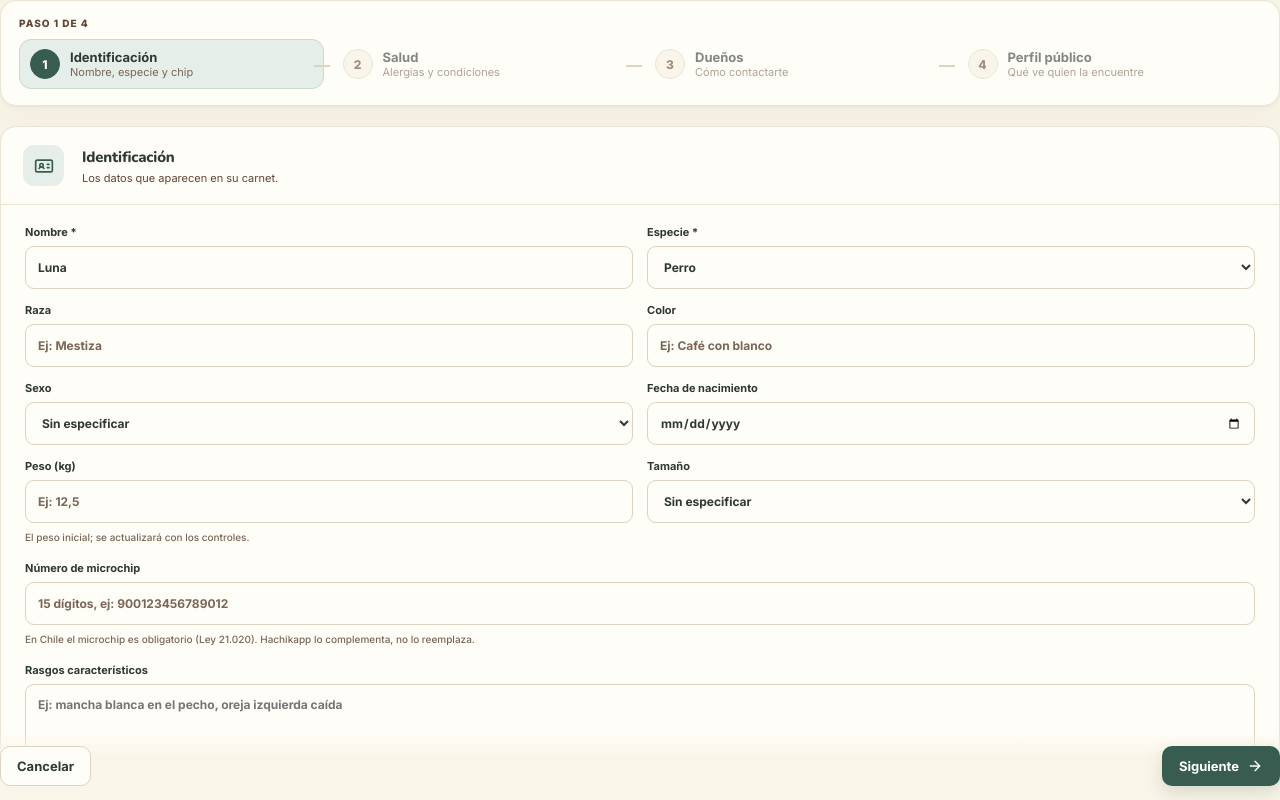
Test: PetForm wizard › never submits from a step before Perfil público, even on a fast double click
Click the button "Siguiente": (1221,766) [1162,746,1279,786]
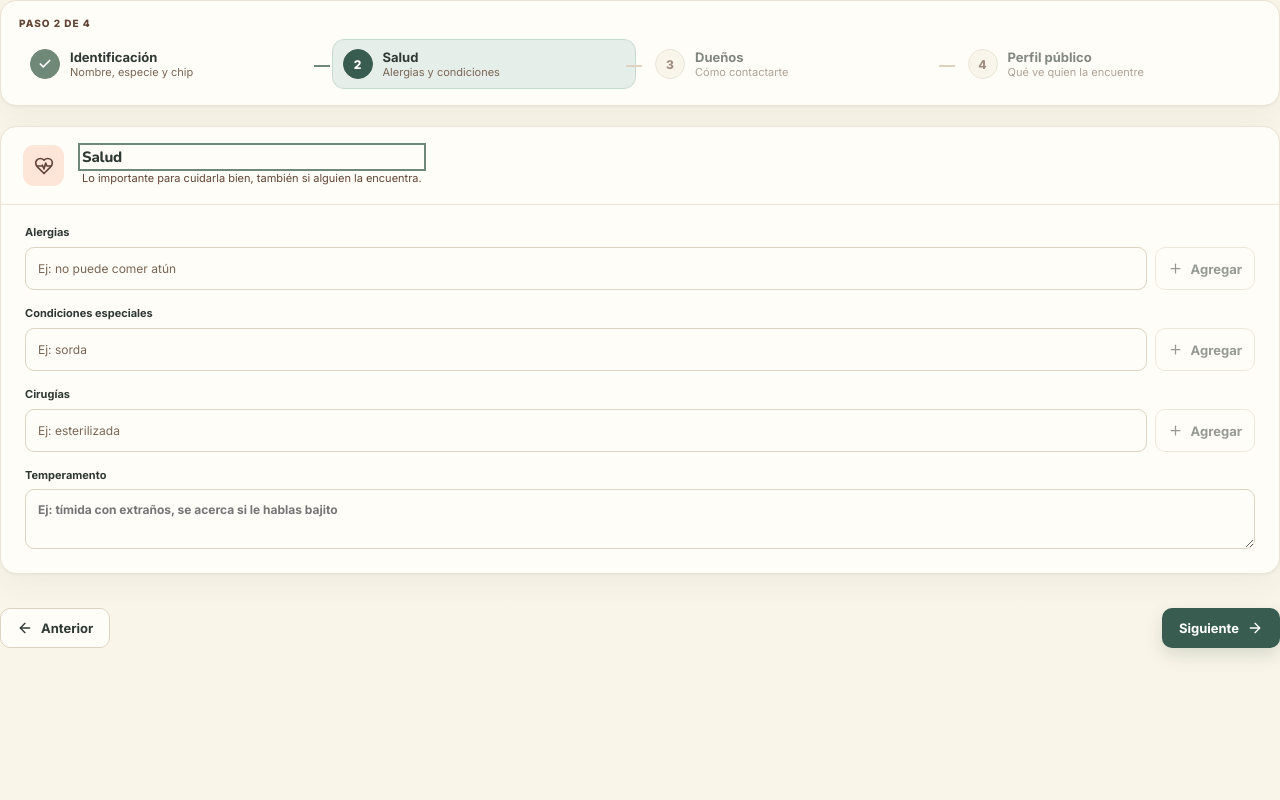
Click the button "Siguiente": (1221,628) [1162,608,1279,648]
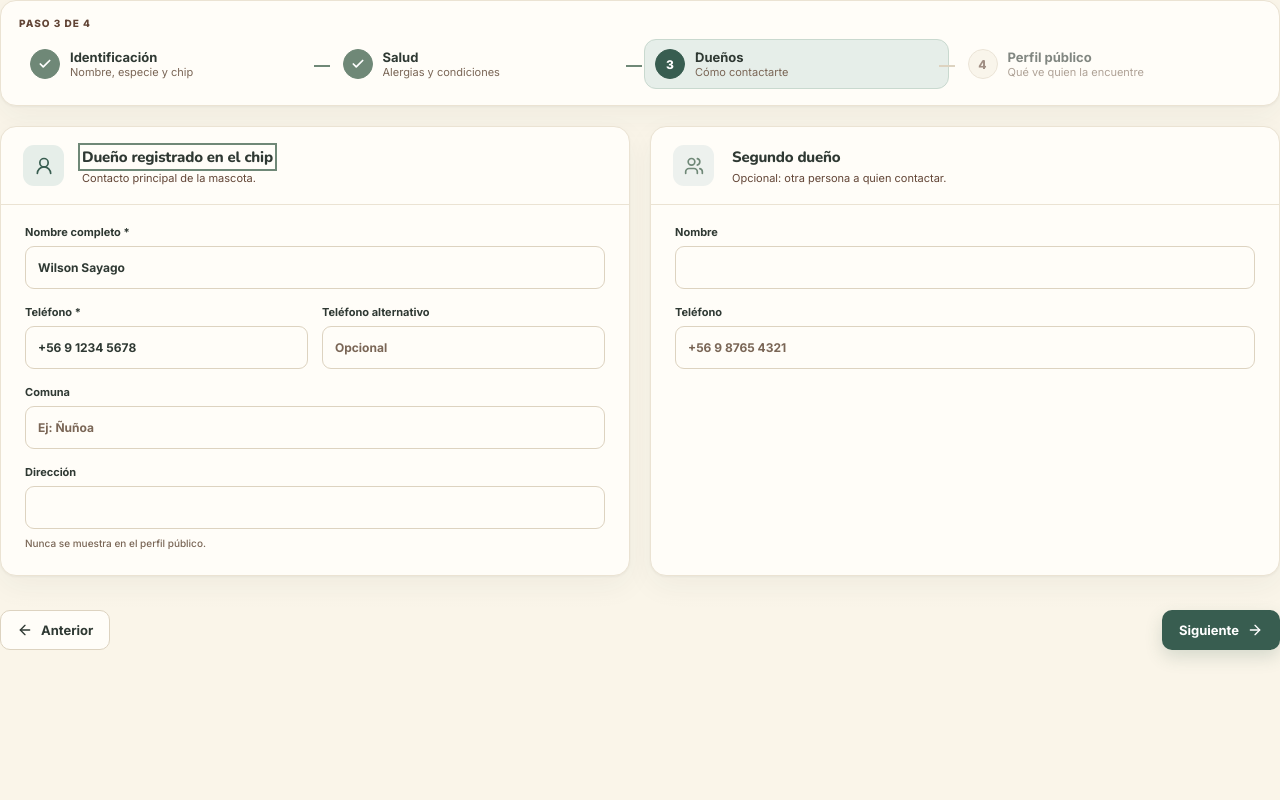
Check: the text "Paso 3 de 4" is shown, box [19,17,91,29]
Double-click the button "Siguiente": (1221,630) [1162,610,1279,650]
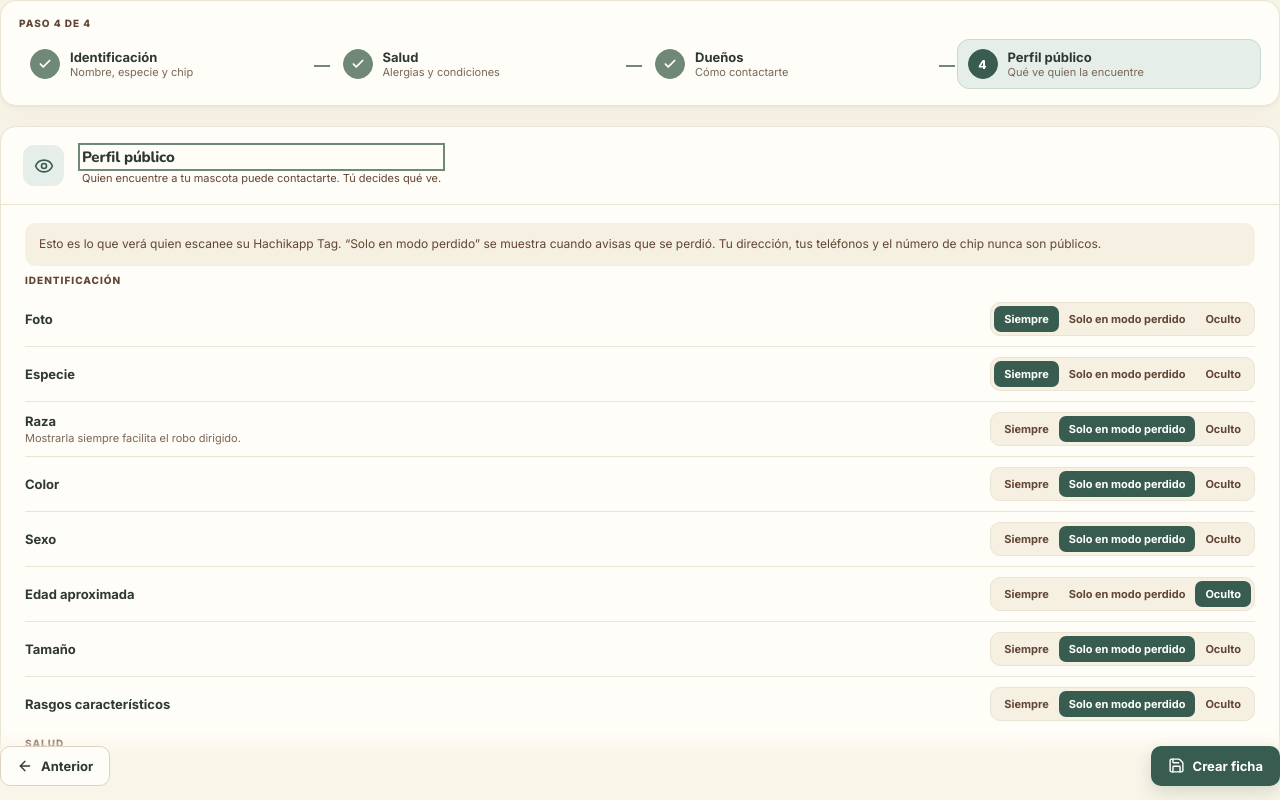
Check: the text "Paso 4 de 4" is shown, box [19,17,91,29]
